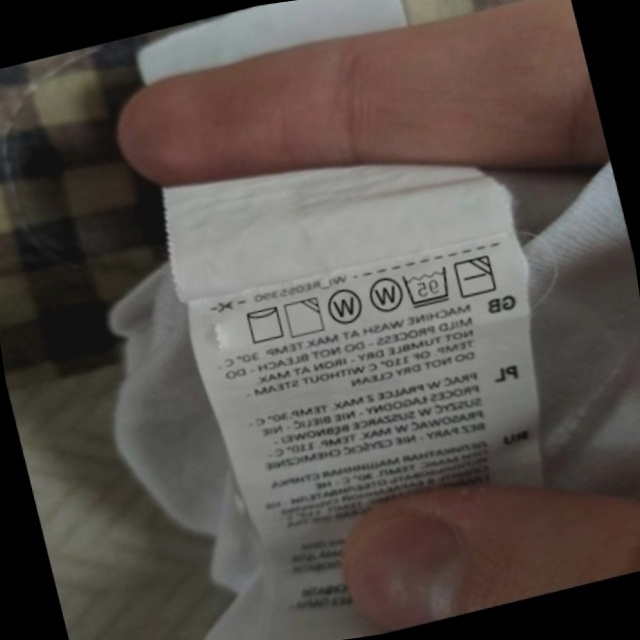95C: (395, 258, 459, 315)
dry_flat_in_shade: (447, 247, 504, 305)
line_dry: (237, 297, 291, 351)
shade_dry: (277, 290, 331, 344)
wet_clean: (319, 280, 371, 334), (359, 267, 410, 321)
